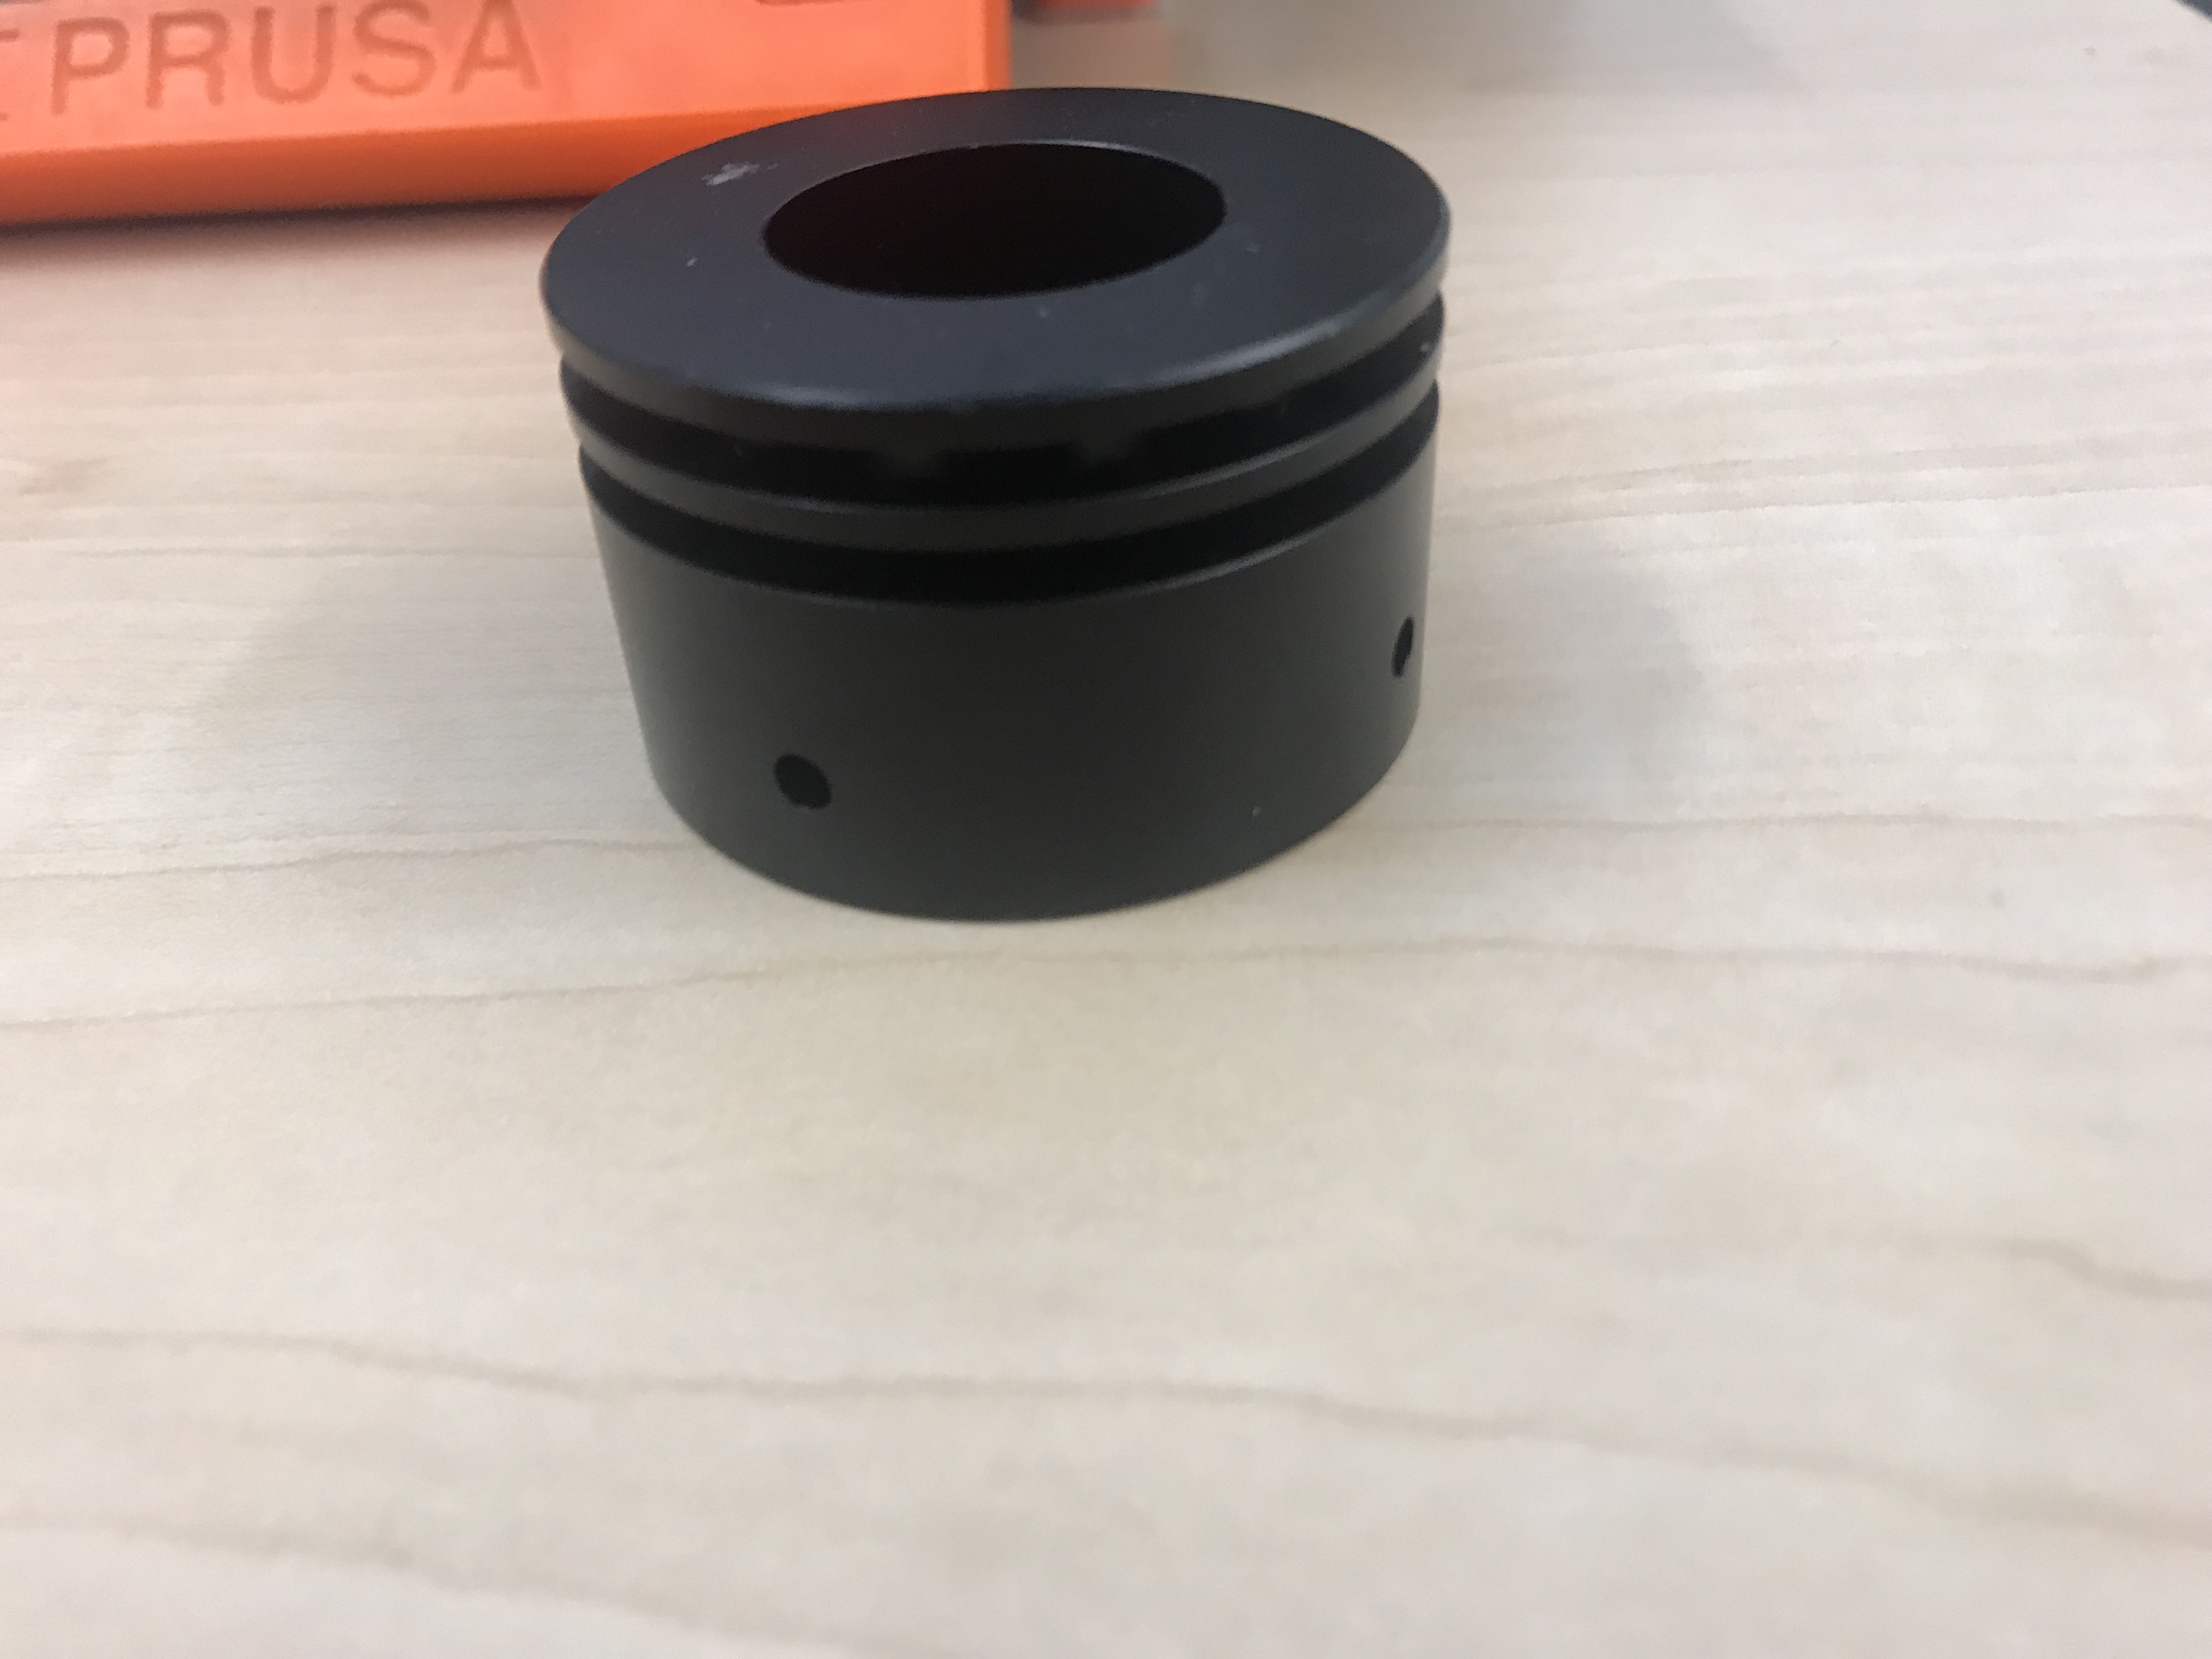pillar1: (528, 78, 1496, 939)
